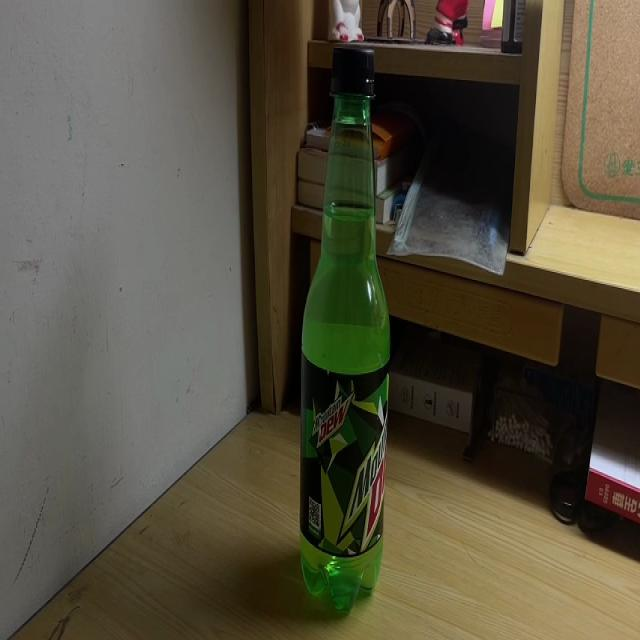Mountain-Dew: (299, 45, 390, 616)
